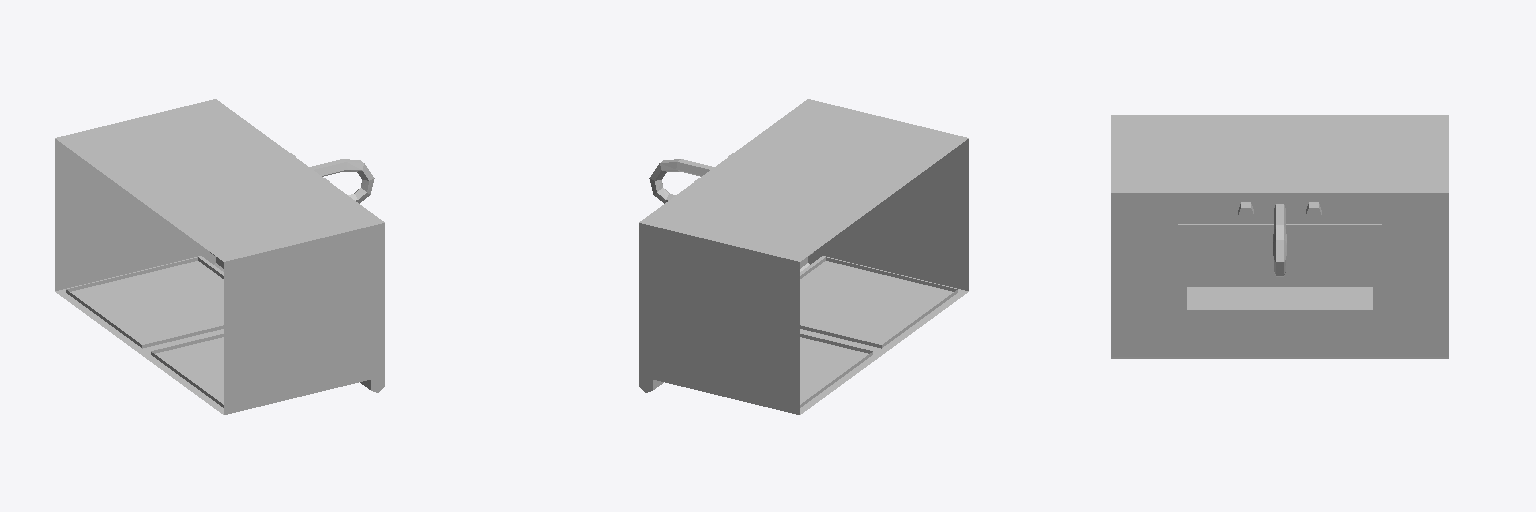
File: kitchenSink.obj
The picture shows the model from 3 angles: view 1: azimuth 30°, elevation 25°; view 2: azimuth 150°, elevation 25°; view 3: azimuth 270°, elevation 25°; orthographic projection.
Parts seen in each view (by area): view 1: Cube.001, Cylinder; view 2: Cube.001, Cylinder; view 3: Cube.001, Cylinder.
Boxes of the visible parts, x1,y1,x2,y2 form: Cube.001: [55, 99, 384, 414]; Cylinder: [291, 153, 374, 203]; Cube.001: [639, 99, 968, 414]; Cylinder: [649, 153, 732, 203]; Cube.001: [1111, 115, 1448, 358]; Cylinder: [1238, 202, 1321, 276].
Size of the model in its own units: 15.92 by 11 by 20.